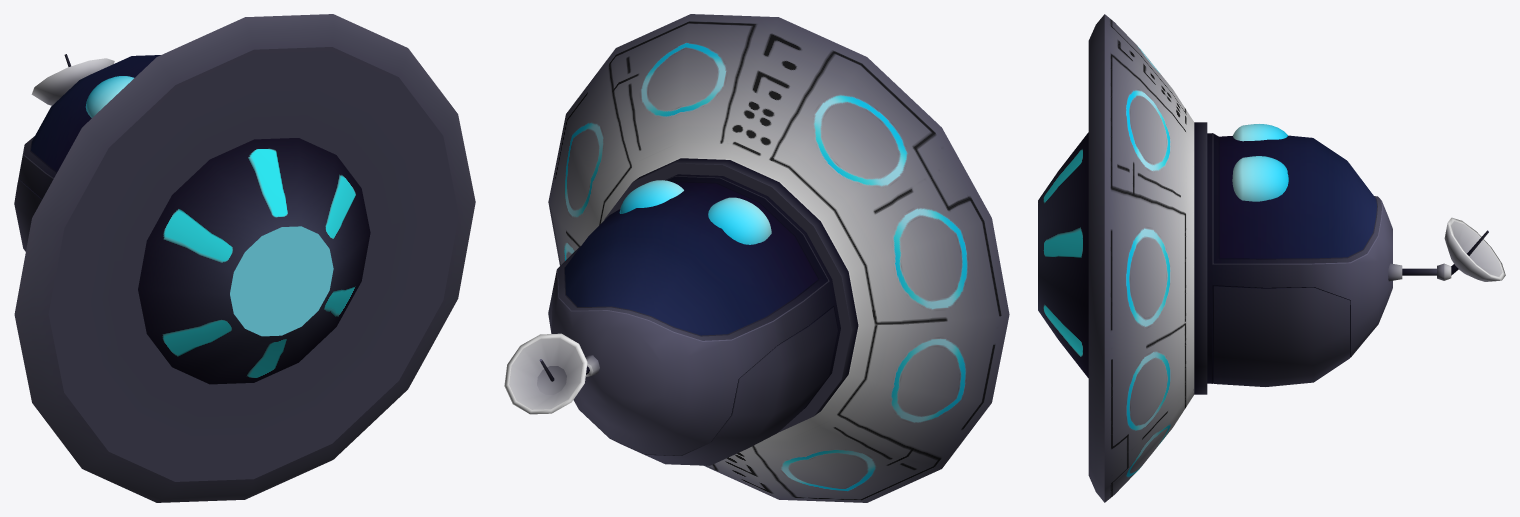
Rendered from Robot_Helper_v2.fbx.
3 renders of one model, left to right at view 1: azimuth 30°, elevation 25°; view 2: azimuth 150°, elevation 25°; view 3: azimuth 270°, elevation 25°, orthographic. The views are drawn at different scales.
Parts seen in each view (by area): view 1: Saucer, SaucerBottom, Head, AntennaDish, Eyes; view 2: Saucer, Head, AntennaDish, Eyes; view 3: Saucer, Head, SaucerBottom, Eyes, AntennaDish, AntennaBase.
Boxes of the visible parts, x1,y1,x2,y2 form: Saucer: (14,14,475,502); SaucerBottom: (138,138,370,384); Head: (14,55,160,251); AntennaDish: (31,58,114,105); Eyes: (85,76,133,117); Saucer: (548,14,1009,502); Head: (548,174,840,465); AntennaDish: (504,333,587,414); Eyes: (619,180,771,244); Saucer: (1088,14,1207,502); Head: (1207,133,1392,386); SaucerBottom: (1038,132,1088,377); Eyes: (1232,124,1288,201); AntennaDish: (1444,217,1505,281); AntennaBase: (1388,263,1451,281).
Bounding box in the file's own units: 286 × 286 × 273.
Materials: 1 (1 with a texture image).
